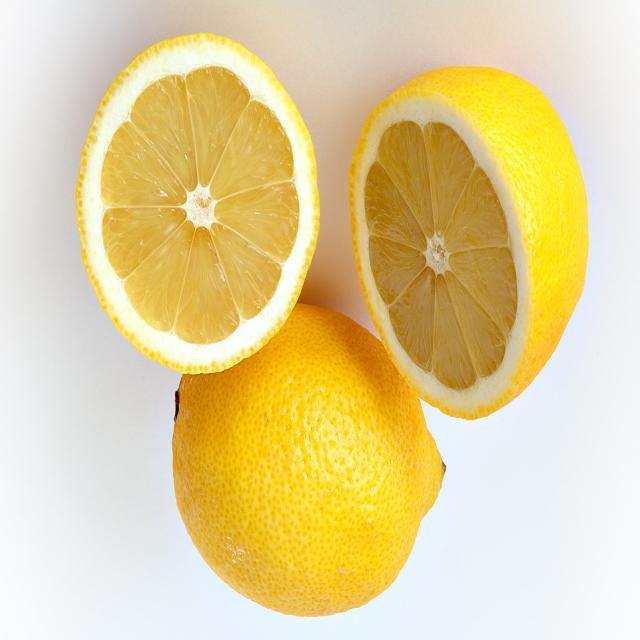lemon: (158, 298, 462, 620), (49, 37, 331, 376), (359, 61, 592, 421)
